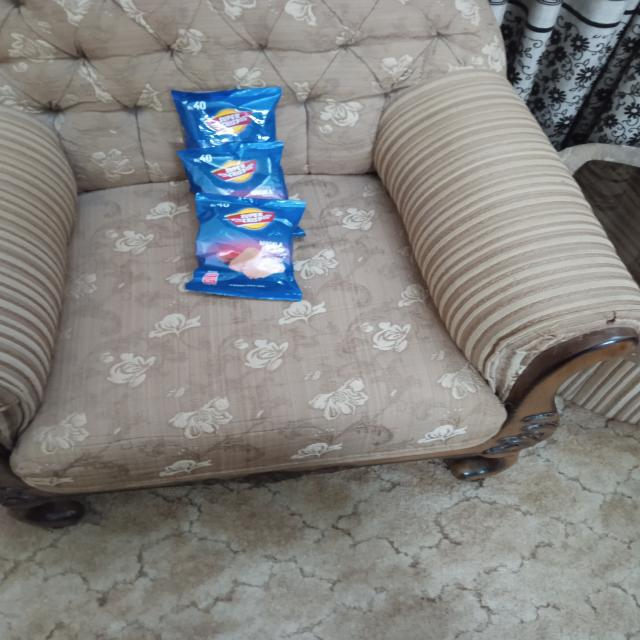Plastic: (203, 202, 300, 300), (178, 143, 281, 199), (174, 90, 277, 144)
